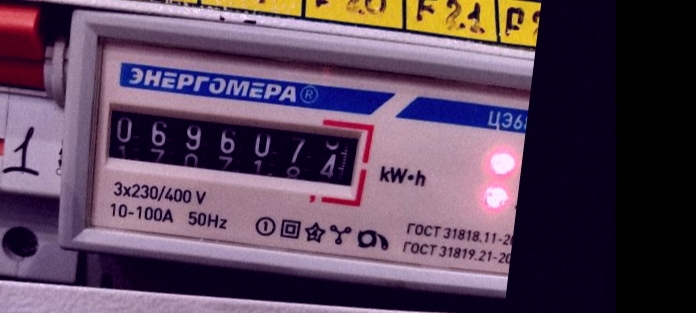0: (251, 126, 273, 158), (113, 113, 134, 142)
4: (318, 149, 337, 179)
6: (147, 116, 170, 146), (216, 124, 238, 155)
7: (286, 133, 307, 164)
9: (182, 121, 202, 151)
screen: (87, 83, 380, 206)
